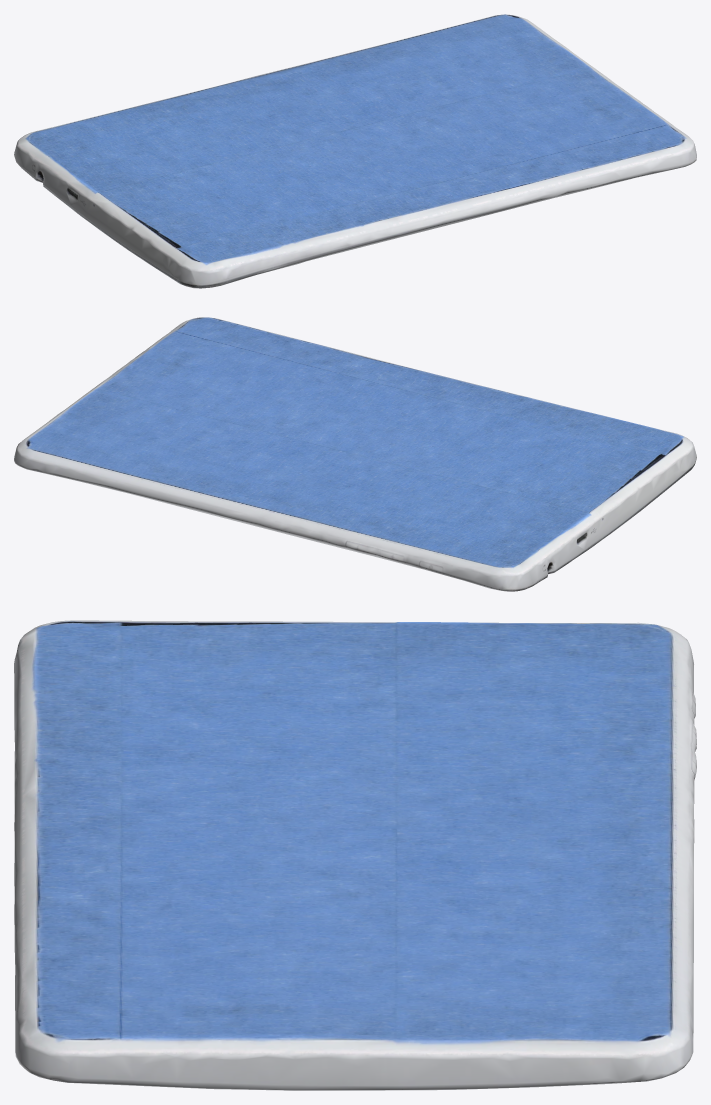
File: HP_1800_Tablet_8GB_7.glb
3 views of the same model, one above another, from view 1: azimuth 30°, elevation 25°; view 2: azimuth 150°, elevation 25°; view 3: azimuth 270°, elevation 25° (orthographic). The views are drawn at different scales.
Parts seen in each view (by area): view 1: HP_1800_Tablet_8GB_7; view 2: HP_1800_Tablet_8GB_7; view 3: HP_1800_Tablet_8GB_7.
Part boxes in pixels (x1,y1,x2,y2): HP_1800_Tablet_8GB_7: (14,14,696,288); HP_1800_Tablet_8GB_7: (14,317,696,591); HP_1800_Tablet_8GB_7: (14,620,696,1090).
Size of the model in its own units: 0.1934 by 0.0132 by 0.1258.
Materials: 1 (1 with a texture image).
